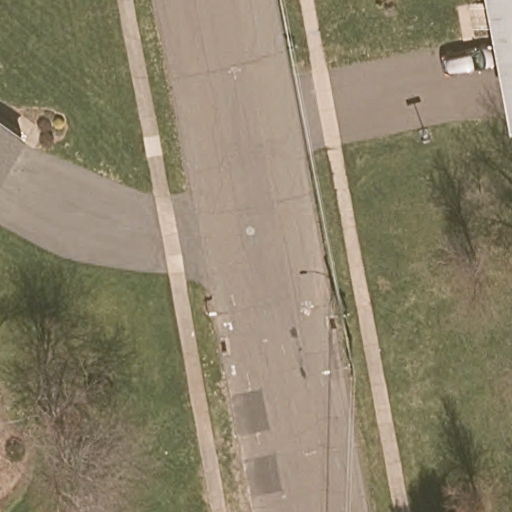DT: (325, 290, 353, 361)
